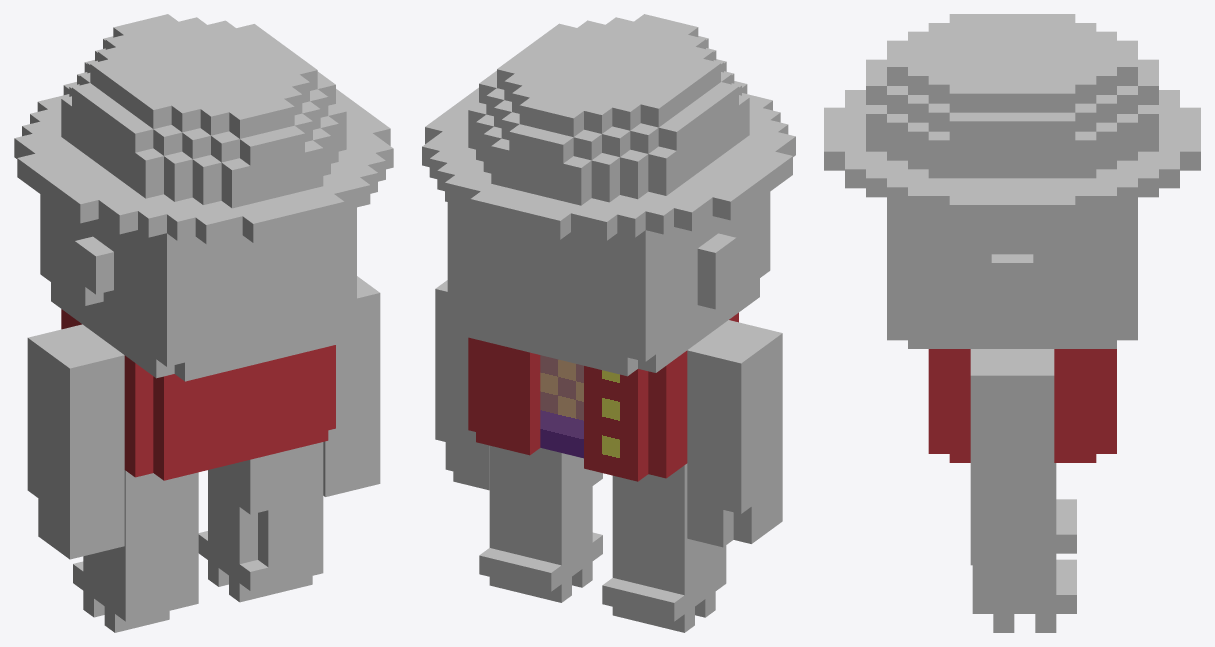
Rendered from LuffyIdle.dae.
The picture shows the model from 3 angles, left to right: view 1: azimuth 30°, elevation 25°; view 2: azimuth 150°, elevation 25°; view 3: azimuth 270°, elevation 25°; orthographic projection.
Visible parts, largest first — view 1: Hat-local, Head-local, Torso-local, LeftArm-local, RightLeg-local, LeftLeg-local, RightARM-local; view 2: Hat-local, Head-local, Torso-local, LeftArm-local, RightLeg-local, LeftLeg-local, RightARM-local; view 3: Hat-local, Head-local, RightARM-local, Torso-local, RightLeg-local, LeftLeg-local.
Part boxes in pixels (x1=…): Hat-local: x1=14, y1=14, x2=393, y2=243; Head-local: x1=40, y1=194, x2=356, y2=381; Torso-local: x1=61, y1=309, x2=335, y2=480; LeftArm-local: x1=27, y1=324, x2=124, y2=559; RightLeg-local: x1=198, y1=442, x2=323, y2=602; LeftLeg-local: x1=73, y1=470, x2=198, y2=632; RightARM-local: x1=323, y1=276, x2=380, y2=496; Hat-local: x1=422, y1=14, x2=795, y2=240; Head-local: x1=447, y1=192, x2=770, y2=376; Torso-local: x1=468, y1=312, x2=738, y2=481; LeftArm-local: x1=687, y1=320, x2=782, y2=547; RightLeg-local: x1=479, y1=445, x2=602, y2=602; LeftLeg-local: x1=602, y1=463, x2=726, y2=632; RightARM-local: x1=435, y1=280, x2=489, y2=490; Hat-local: x1=824, y1=14, x2=1200, y2=223; Head-local: x1=887, y1=206, x2=1137, y2=348; RightARM-local: x1=970, y1=349, x2=1054, y2=565; Torso-local: x1=928, y1=349, x2=1116, y2=462; RightLeg-local: x1=972, y1=463, x2=1076, y2=632; LeftLeg-local: x1=1056, y1=499, x2=1076, y2=553.
Size of the model in its own units: 17 by 28 by 18.
